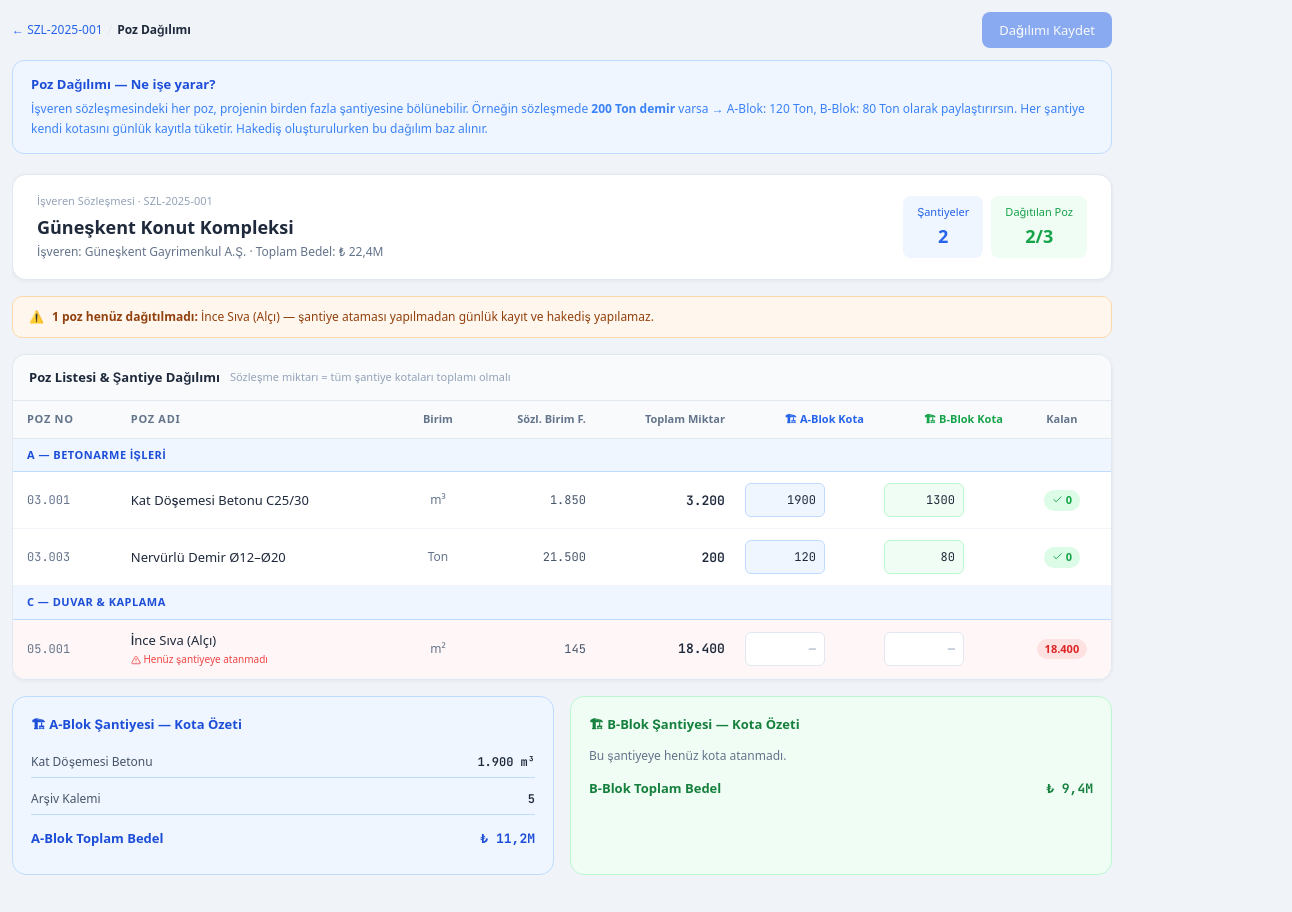
Test: POZ dağılımı — BİRLEŞTİRME (merge) semantiği › `0` yazılırsa kaydetme HİÇ BAŞLAMAZ ve gerekçe görünür olur
Replace the text in the field named "03.001 · A-Blok kotası" with "0". click: (785, 500)
box: 745,483 -> 825,517
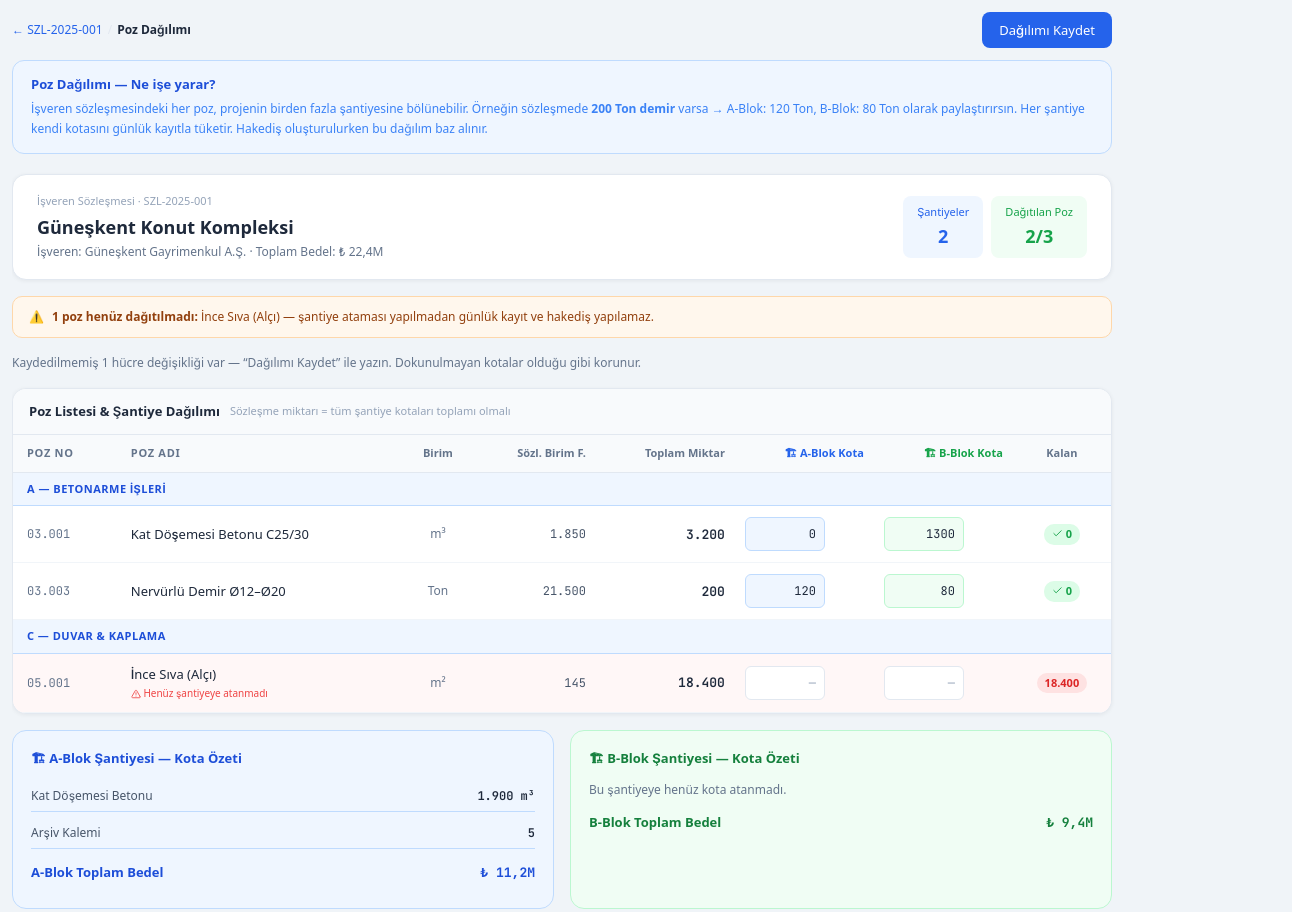
Click the button with test id "cdist-save". click: (1047, 30)
box: 982,12 -> 1112,48
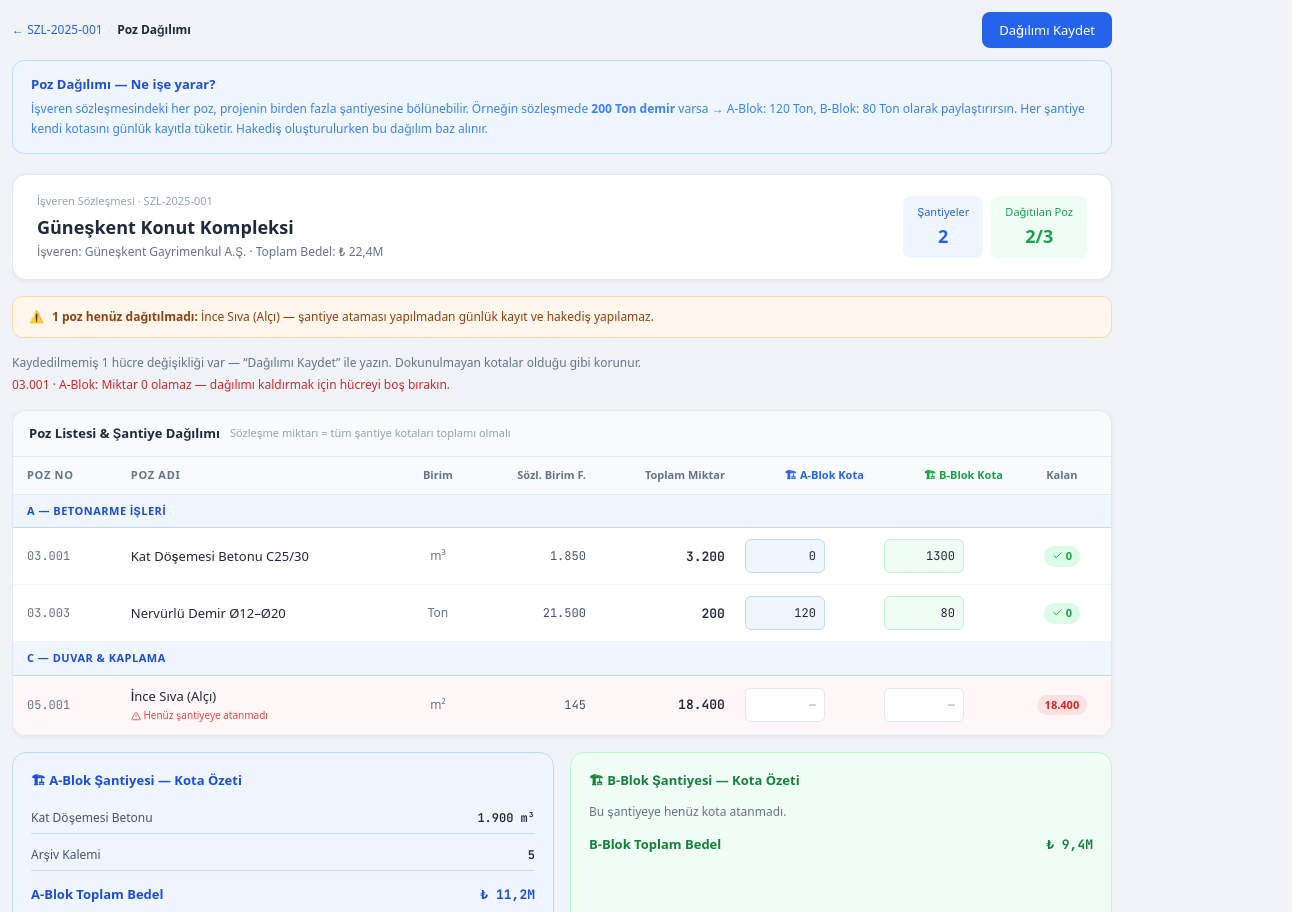
expect the text "03.001 · A-Blok: Miktar 0 olamaz" is shown: met, box 12,376 -> 450,393
